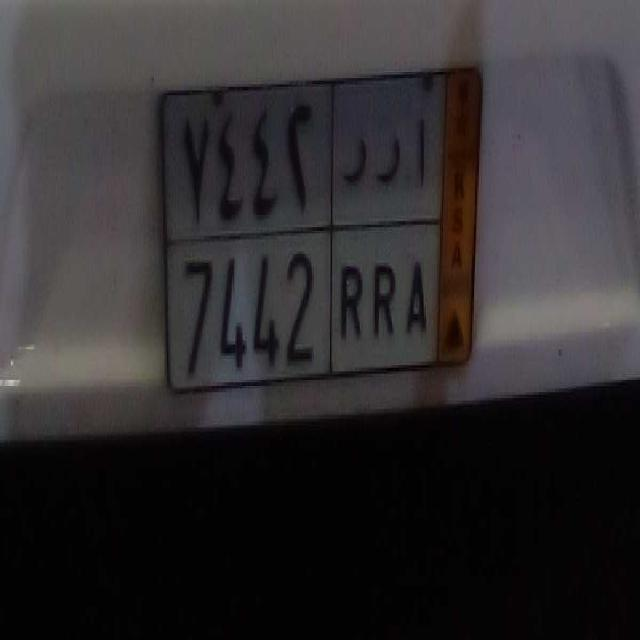license_plate: (165, 224, 442, 391)
